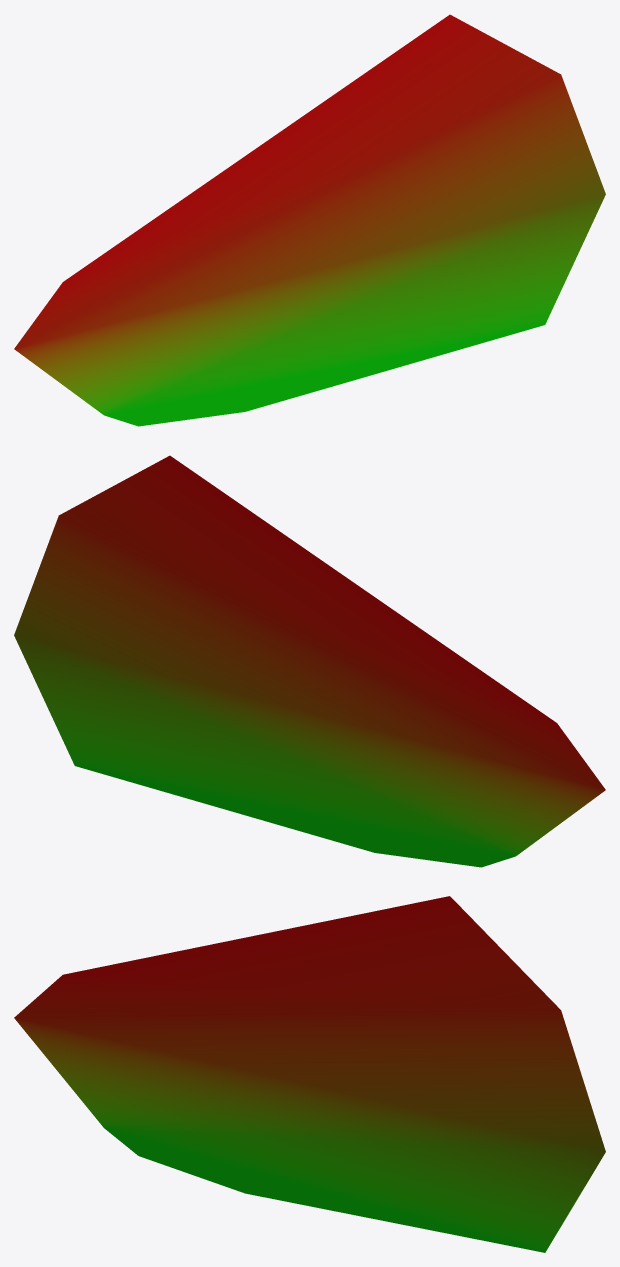
The model's file is Var6_LOD4.fbx.
The picture shows the model from 3 angles, top to bottom: view 1: azimuth 30°, elevation 25°; view 2: azimuth 150°, elevation 25°; view 3: azimuth 330°, elevation 25°; orthographic projection.
Parts seen in each view (by area): view 1: _857b_Var6_LOD4; view 2: _857b_Var6_LOD4; view 3: _857b_Var6_LOD4.
Part boxes in pixels (x1=…): _857b_Var6_LOD4: x1=14, y1=14, x2=605, y2=426; _857b_Var6_LOD4: x1=14, y1=455, x2=605, y2=867; _857b_Var6_LOD4: x1=14, y1=896, x2=605, y2=1252.
Bounding box in the file's own units: 28.55 × 16.02 × 6.73e-07.
